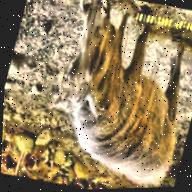boar: (26, 0, 192, 191)
